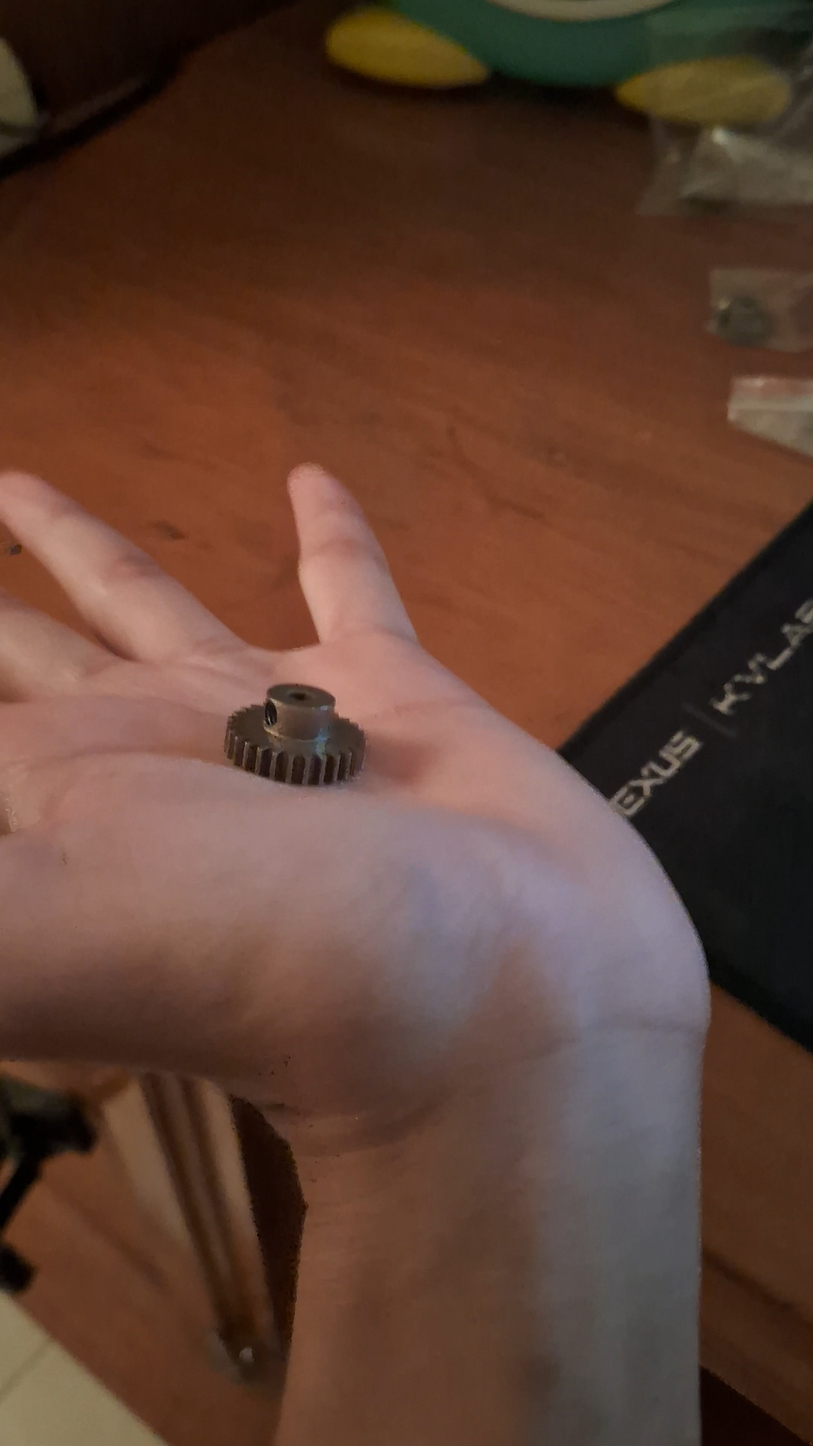spur gear: (224, 683, 365, 787)
